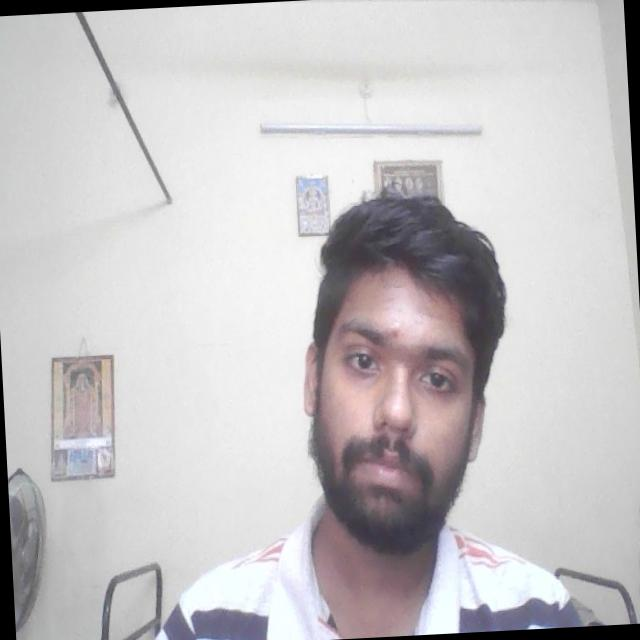Focused: (302, 277, 495, 532)
